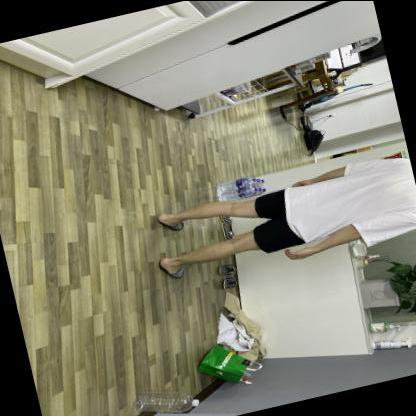no_safety-shoe: (149, 246, 190, 295), (146, 199, 185, 240)
